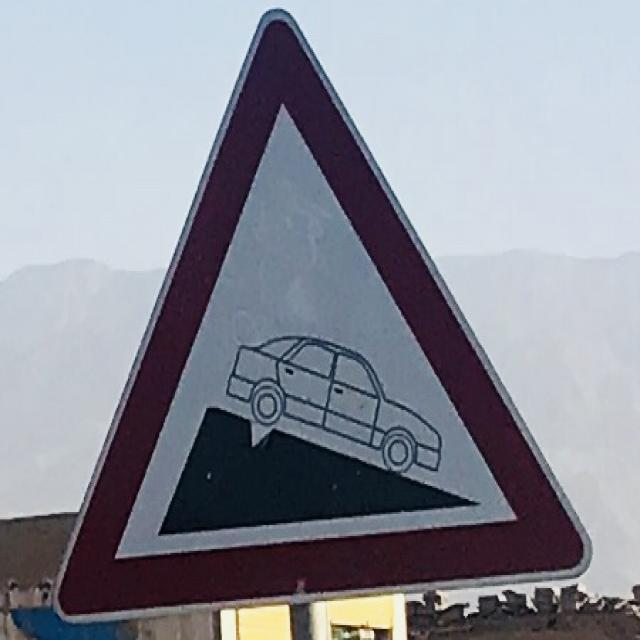steep descent: (56, 15, 593, 613)
